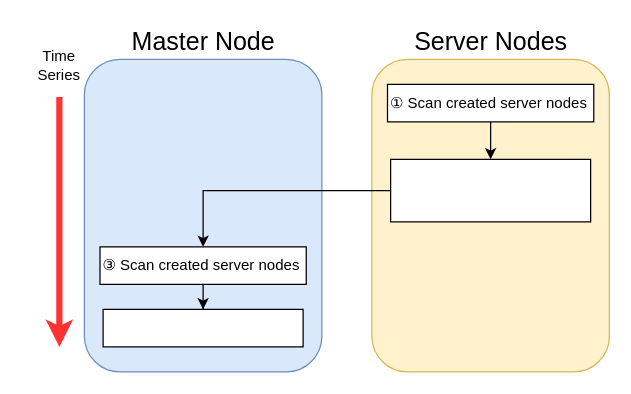
Some shapes in this 631 by 394 pixel diagram are drawn without their labels. Each missing label, with the centre of its shape:
"② Create new node following the created server node list" belongs at point (490, 190).
"④ Make server node list" belongs at point (202, 327).
